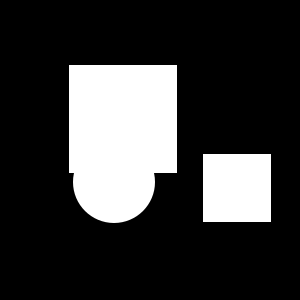circle: (69, 65, 177, 173), (203, 154, 271, 222)
rectangle: (73, 141, 155, 223)
